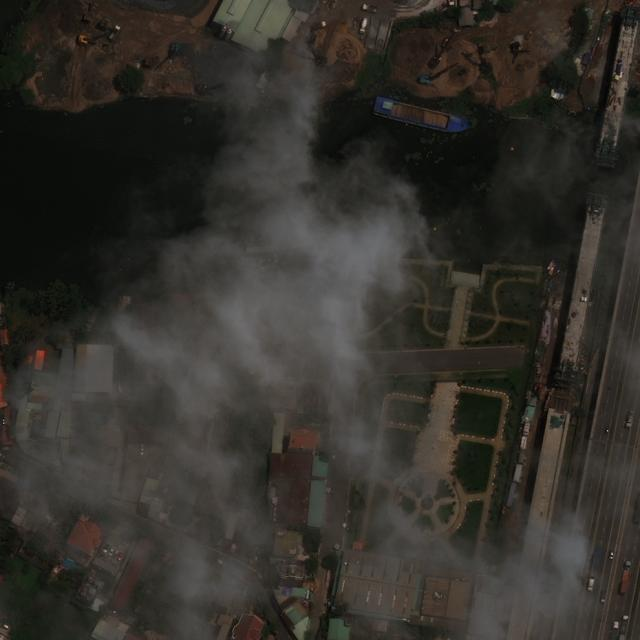Cargo: (370, 96, 473, 138)
